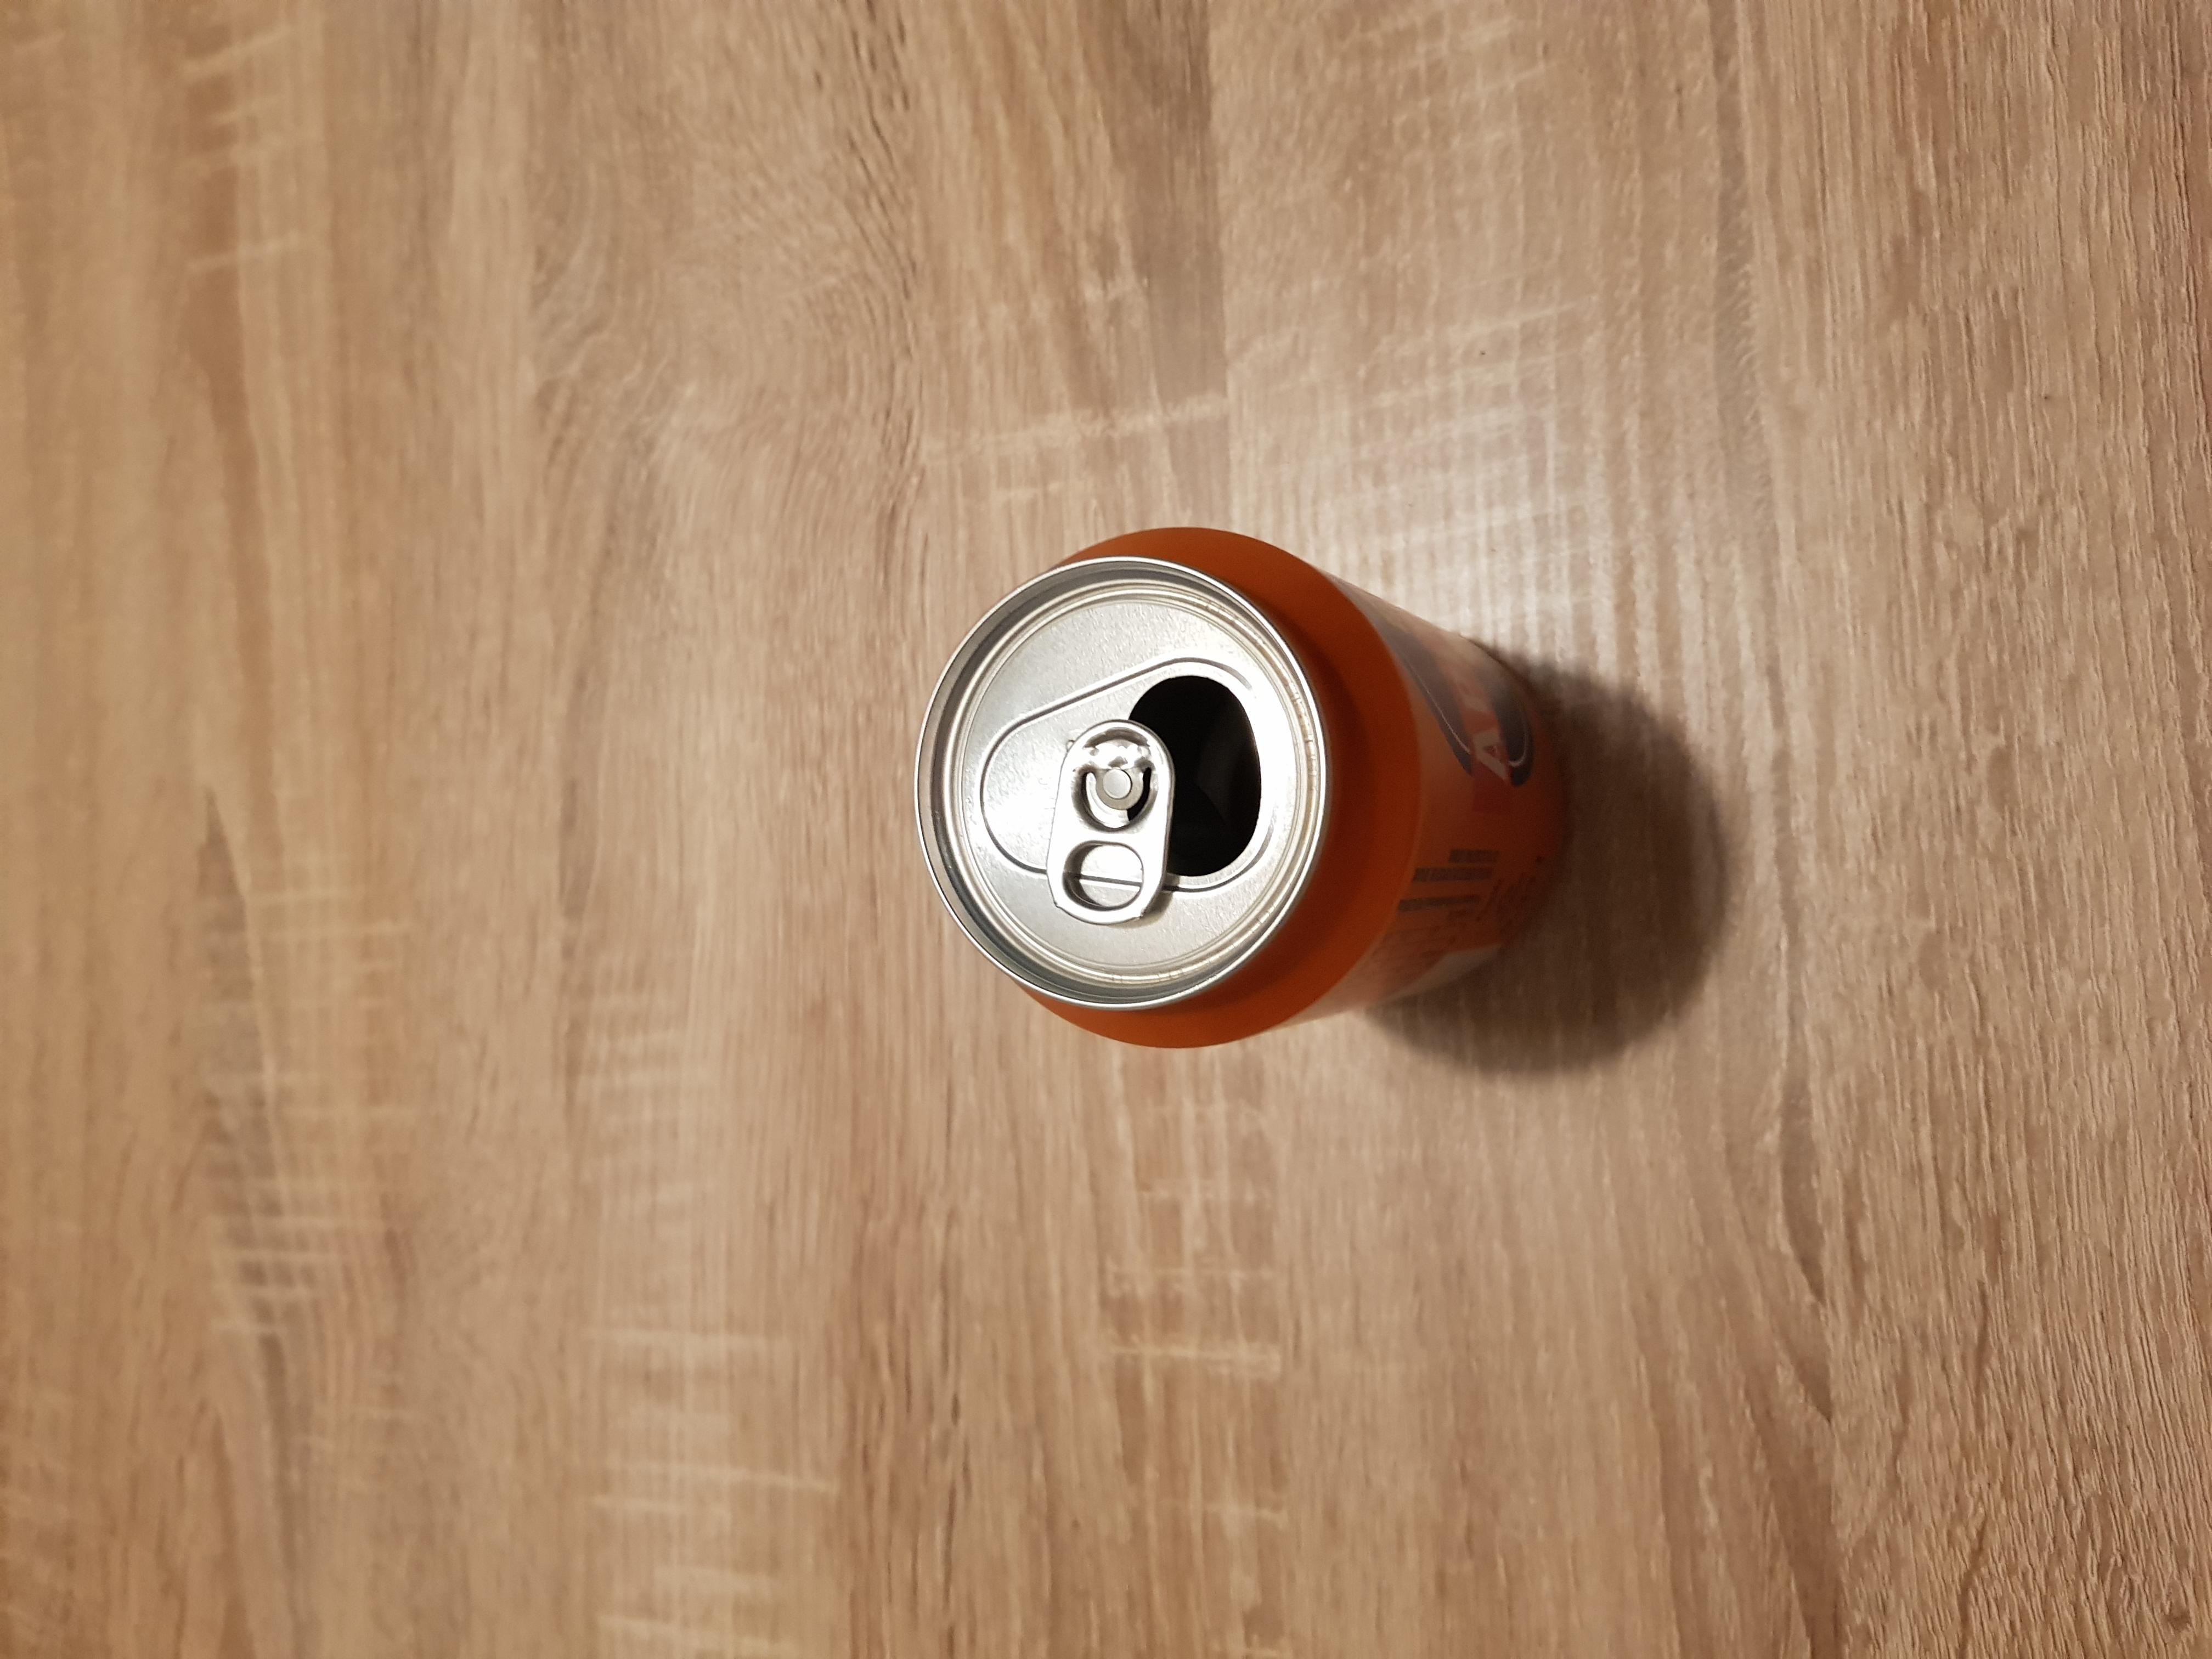Can: (909, 519, 1561, 1053)
